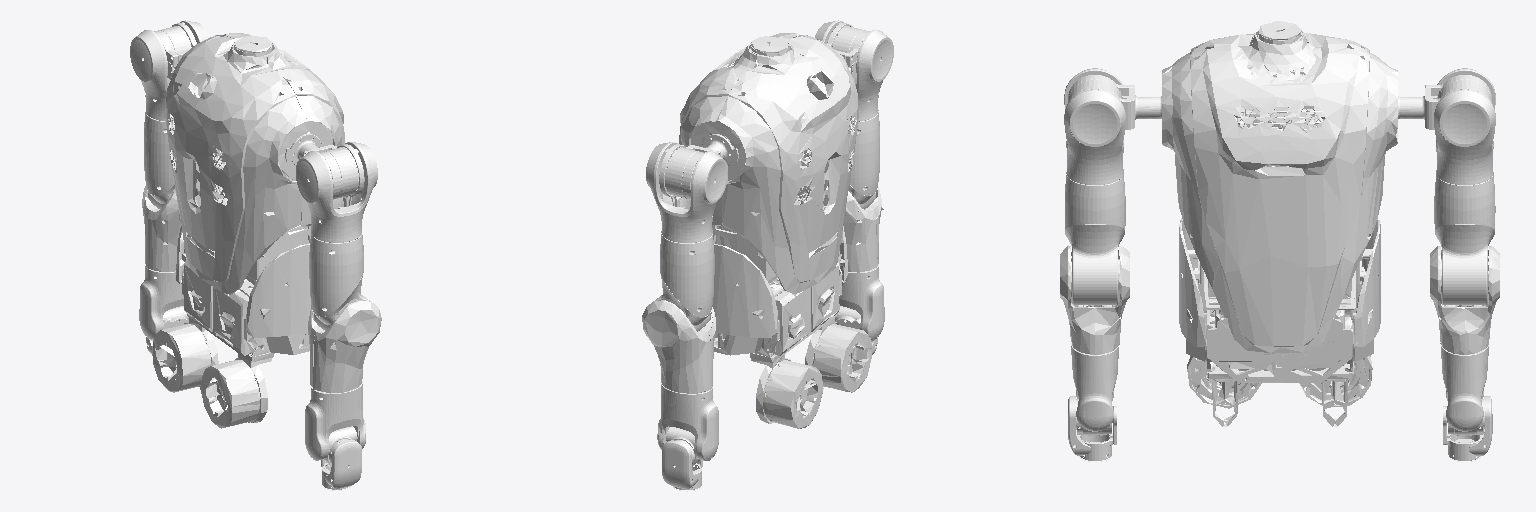
URDF robot description (biped_s48):
<?xml version='1.0' encoding='utf-8'?>
<robot name="biped_s48">
  <mujoco>
    <compiler meshdir="../meshes/" balanceinertia="true" discardvisual="false" />
  </mujoco>
  <link name="base_link">
    <inertial>
      <origin xyz="-0.0185005 0.00031952 0.1929569" rpy="0 0 0" />
      <mass value="22.11293803" />
      <inertia ixx="0.93103133" ixy="0.00011763" ixz="-0.07210993" iyy="0.82590532" iyz="6.88e-06" izz="0.27686612" />
    </inertial>
    <visual>
      <origin xyz="0 0 0" rpy="0 0 0" />
      <geometry>
        <mesh filename="../../meshes/torso.STL" />
      </geometry>
      <material name="">
        <color rgba="1 1 1 1" />
      </material>
    </visual>
  </link>
  <link name="zarm_l1_link">
    <inertial>
      <origin xyz="-0.00083 -0.02218 0.00035" rpy="0 0 0" />
      <mass value="0.962" />
      <inertia ixx="0.00225" ixy="-3e-05" ixz="0.0" iyy="0.00099" iyz="-2e-05" izz="0.00227" />
    </inertial>
    <visual>
      <origin xyz="0 0 0" rpy="0 0 0" />
      <geometry>
        <mesh filename="../../meshes/l_arm_pitch.STL" />
      </geometry>
      <material name="">
        <color rgba="1 1 1 1" />
      </material>
    </visual>
  </link>
  <joint name="zarm_l1_joint" type="revolute">
    <origin xyz="-0.017499853 0.29269999999999996 0.4245" rpy="0 0 0" />
    <parent link="base_link" />
    <child link="zarm_l1_link" />
    <axis xyz="0 1 0" />
    <limit lower="-3.14159265358979" upper="1.5707963267949" effort="100.0" velocity="41.3433333333333" />
  </joint>
  <link name="zarm_l2_link">
    <inertial>
      <origin xyz="-0.00791 0.0 -0.04655" rpy="0 0 0" />
      <mass value="0.57" />
      <inertia ixx="0.00163" ixy="0.0" ixz="5e-05" iyy="0.00211" iyz="0.0" izz="0.00122" />
    </inertial>
    <visual>
      <origin xyz="0 0 0" rpy="0 0 0" />
      <geometry>
        <mesh filename="../../meshes/l_arm_roll.STL" />
      </geometry>
      <material name="">
        <color rgba="1 1 1 1" />
      </material>
    </visual>
  </link>
  <joint name="zarm_l2_joint" type="revolute">
    <origin xyz="0 0 0" rpy="0 0 0" />
    <parent link="zarm_l1_link" />
    <child link="zarm_l2_link" />
    <axis xyz="1 0 0" />
    <limit lower="-0.349065850398866" upper="2.0943951023932" effort="50.0" velocity="19.154" />
  </joint>
  <link name="zarm_l3_link">
    <inertial>
      <origin xyz="0.00628 0.00107 -0.20878" rpy="0 0 0" />
      <mass value="1.65" />
      <inertia ixx="0.00815" ixy="-4e-05" ixz="0.00085" iyy="0.00828" iyz="0.00014" izz="0.00206" />
    </inertial>
    <visual>
      <origin xyz="0 0 0" rpy="0 0 0" />
      <geometry>
        <mesh filename="../../meshes/l_arm_yaw.STL" />
      </geometry>
      <material name="">
        <color rgba="1 1 1 1" />
      </material>
    </visual>
  </link>
  <joint name="zarm_l3_joint" type="revolute">
    <origin xyz="0 0 0" rpy="0 0 0" />
    <parent link="zarm_l2_link" />
    <child link="zarm_l3_link" />
    <axis xyz="0 0 1" />
    <limit lower="-1.5707963267949" upper="1.5707963267949" effort="39.0" velocity="18.84" />
  </joint>
  <link name="zarm_l4_link">
    <inertial>
      <origin xyz="-0.01611 0.00143 -0.04857" rpy="0 0 0" />
      <mass value="0.429" />
      <inertia ixx="0.00135" ixy="0.0" ixz="-0.0001" iyy="0.00114" iyz="0.0" izz="0.00083" />
    </inertial>
    <visual>
      <origin xyz="0 0 0" rpy="0 0 0" />
      <geometry>
        <mesh filename="../../meshes/l_forearm.STL" />
      </geometry>
      <material name="">
        <color rgba="1 1 1 1" />
      </material>
    </visual>
  </link>
  <joint name="zarm_l4_joint" type="revolute">
    <origin xyz="0.0200000000000006 0 -0.283699999999996" rpy="0 0 0" />
    <parent link="zarm_l3_link" />
    <child link="zarm_l4_link" />
    <axis xyz="0 1 0" />
    <limit lower="-2.61799387799149" upper="0.0" effort="50.0" velocity="18.84" />
  </joint>
  <link name="zarm_l5_link">
    <inertial>
      <origin xyz="-0.00207 0.00018 -0.05079" rpy="0 0 0" />
      <mass value="0.61" />
      <inertia ixx="0.00107" ixy="0.0" ixz="-4e-05" iyy="0.00146" iyz="0.0" izz="0.00083" />
    </inertial>
    <visual>
      <origin xyz="0 0 0" rpy="0 0 0" />
      <geometry>
        <mesh filename="../../meshes/l_hand_yaw.STL" />
      </geometry>
      <material name="">
        <color rgba="1 1 1 1" />
      </material>
    </visual>
  </link>
  <joint name="zarm_l5_joint" type="revolute">
    <origin xyz="-0.0200000000000025 0 -0.127037274261591" rpy="0 0 0" />
    <parent link="zarm_l4_link" />
    <child link="zarm_l5_link" />
    <axis xyz="0 0 1" />
    <limit lower="-1.5707963267949" upper="1.5707963267949" effort="12.0" velocity="21.666" />
  </joint>
  <link name="zarm_l6_link">
    <inertial>
      <origin xyz="-0.00111 0.00335 -0.01335" rpy="0 0 0" />
      <mass value="0.331" />
      <inertia ixx="0.00022" ixy="0.0" ixz="0.0" iyy="0.00027" iyz="0.0" izz="0.00028" />
    </inertial>
    <visual>
      <origin xyz="0 0 0" rpy="0 0 0" />
      <geometry>
        <mesh filename="../../meshes/l_hand_roll.STL" />
      </geometry>
      <material name="">
        <color rgba="1 1 1 1" />
      </material>
    </visual>
  </link>
  <joint name="zarm_l6_joint" type="revolute">
    <origin xyz="0.000199999999999079 0 -0.106462725738415" rpy="0 0 0" />
    <parent link="zarm_l5_link" />
    <child link="zarm_l6_link" />
    <axis xyz="1 0 0" />
    <limit lower="-1.30899693899575" upper="0.698131700797732" effort="12.0" velocity="21.666" />
  </joint>
  <link name="zarm_l7_link">
    <inertial>
      <origin xyz="0.00186 0.01014 -0.09044" rpy="0 0 0" />
      <mass value="0.0542110173081966" />
      <inertia ixx="0.00071" ixy="1e-05" ixz="2e-05" iyy="0.0007" iyz="-4e-05" izz="0.00012" />
    </inertial>
    <visual>
      <origin xyz="0 0 0" rpy="0 0 0" />
      <geometry>
        <mesh filename="../../meshes/l_hand_pitch.STL" />
      </geometry>
      <material name="">
        <color rgba="1 1 1 1" />
      </material>
    </visual>
  </link>
  <joint name="zarm_l7_joint" type="revolute">
    <origin xyz="0 0 -0.0210004653879916" rpy="0 0 0" />
    <parent link="zarm_l6_link" />
    <child link="zarm_l7_link" />
    <axis xyz="0 1 0" />
    <limit lower="-0.698131700797732" upper="0.698131700797732" effort="12.0" velocity="21.666" />
  </joint>
  <link name="zarm_l7_end_effector">
    <collision>
      <origin rpy="0 0 0" xyz="0 0 0" />
      <geometry>
        <sphere radius="0.005" />
      </geometry>
    </collision>
  </link>
  <joint name="zarm_l7_end_effector_joint" type="fixed">
    <origin xyz="0 -0.03 -0.17" rpy="0 0 0" />
    <parent link="zarm_l7_link" />
    <child link="zarm_l7_end_effector" />
  </joint>
  <link name="zarm_r1_link">
    <inertial>
      <origin xyz="-0.00083 0.02218 0.00035" rpy="0 0 0" />
      <mass value="0.962" />
      <inertia ixx="0.00225" ixy="3e-05" ixz="0.0" iyy="0.00099" iyz="2e-05" izz="0.00227" />
    </inertial>
    <visual>
      <origin xyz="0 0 0" rpy="0 0 0" />
      <geometry>
        <mesh filename="../../meshes/r_arm_pitch.STL" />
      </geometry>
      <material name="">
        <color rgba="1 1 1 1" />
      </material>
    </visual>
  </link>
  <joint name="zarm_r1_joint" type="revolute">
    <origin xyz="-0.017499853 -0.29269999999999996 0.4245" rpy="0 0 0" />
    <parent link="base_link" />
    <child link="zarm_r1_link" />
    <axis xyz="0 1 0" />
    <limit lower="-3.14159265358979" upper="1.5707963267949" effort="100.0" velocity="41.3433333333333" />
  </joint>
  <link name="zarm_r2_link">
    <inertial>
      <origin xyz="-0.00791 0.0 -0.04655" rpy="0 0 0" />
      <mass value="0.57" />
      <inertia ixx="0.00163" ixy="0.0" ixz="5e-05" iyy="0.00211" iyz="0.0" izz="0.00122" />
    </inertial>
    <visual>
      <origin xyz="0 0 0" rpy="0 0 0" />
      <geometry>
        <mesh filename="../../meshes/r_arm_roll.STL" />
      </geometry>
      <material name="">
        <color rgba="1 1 1 1" />
      </material>
    </visual>
  </link>
  <joint name="zarm_r2_joint" type="revolute">
    <origin xyz="0 0 0" rpy="0 0 0" />
    <parent link="zarm_r1_link" />
    <child link="zarm_r2_link" />
    <axis xyz="1 0 0" />
    <limit lower="-2.0943951023932" upper="0.349065850398866" effort="50.0" velocity="19.154" />
  </joint>
  <link name="zarm_r3_link">
    <inertial>
      <origin xyz="0.00628 -0.00107 -0.20878" rpy="0 0 0" />
      <mass value="1.65" />
      <inertia ixx="0.00815" ixy="4e-05" ixz="0.00085" iyy="0.00828" iyz="-0.00014" izz="0.00206" />
    </inertial>
    <visual>
      <origin xyz="0 0 0" rpy="0 0 0" />
      <geometry>
        <mesh filename="../../meshes/r_arm_yaw.STL" />
      </geometry>
      <material name="">
        <color rgba="1 1 1 1" />
      </material>
    </visual>
  </link>
  <joint name="zarm_r3_joint" type="revolute">
    <origin xyz="0 0 0" rpy="0 0 0" />
    <parent link="zarm_r2_link" />
    <child link="zarm_r3_link" />
    <axis xyz="0 0 1" />
    <limit lower="-1.5707963267949" upper="1.5707963267949" effort="39.0" velocity="18.84" />
  </joint>
  <link name="zarm_r4_link">
    <inertial>
      <origin xyz="-0.01611 -0.00143 -0.04857" rpy="0 0 0" />
      <mass value="0.429" />
      <inertia ixx="0.00135" ixy="0.0" ixz="-0.0001" iyy="0.00114" iyz="0.0" izz="0.00083" />
    </inertial>
    <visual>
      <origin xyz="0 0 0" rpy="0 0 0" />
      <geometry>
        <mesh filename="../../meshes/r_forearm.STL" />
      </geometry>
      <material name="">
        <color rgba="1 1 1 1" />
      </material>
    </visual>
  </link>
  <joint name="zarm_r4_joint" type="revolute">
    <origin xyz="0.0200000000000024 0 -0.2837" rpy="0 0 0" />
    <parent link="zarm_r3_link" />
    <child link="zarm_r4_link" />
    <axis xyz="0 1 0" />
    <limit lower="-2.61799387799149" upper="0.0" effort="50.0" velocity="18.84" />
  </joint>
  <link name="zarm_r5_link">
    <inertial>
      <origin xyz="-0.00207 -0.00018 -0.05079" rpy="0 0 0" />
      <mass value="0.61" />
      <inertia ixx="0.00107" ixy="0.0" ixz="-4e-05" iyy="0.00146" iyz="0.0" izz="0.00083" />
    </inertial>
    <visual>
      <origin xyz="0 0 0" rpy="0 0 0" />
      <geometry>
        <mesh filename="../../meshes/r_hand_yaw.STL" />
      </geometry>
      <material name="">
        <color rgba="1 1 1 1" />
      </material>
    </visual>
  </link>
  <joint name="zarm_r5_joint" type="revolute">
    <origin xyz="-0.0200000000000001 0 -0.127037274261587" rpy="0 0 0" />
    <parent link="zarm_r4_link" />
    <child link="zarm_r5_link" />
    <axis xyz="0 0 1" />
    <limit lower="-1.5707963267949" upper="1.5707963267949" effort="12.0" velocity="21.666" />
  </joint>
  <link name="zarm_r6_link">
    <inertial>
      <origin xyz="-0.00111 -0.00335 -0.01335" rpy="0 0 0" />
      <mass value="0.331" />
      <inertia ixx="0.00022" ixy="0.0" ixz="0.0" iyy="0.00027" iyz="0.0" izz="0.00028" />
    </inertial>
    <visual>
      <origin xyz="0 0 0" rpy="0 0 0" />
      <geometry>
        <mesh filename="../../meshes/r_hand_roll.STL" />
      </geometry>
      <material name="">
        <color rgba="1 1 1 1" />
      </material>
    </visual>
  </link>
  <joint name="zarm_r6_joint" type="revolute">
    <origin xyz="0 0 -0.106462725738415" rpy="0 0 0" />
    <parent link="zarm_r5_link" />
    <child link="zarm_r6_link" />
    <axis xyz="1 0 0" />
    <limit lower="-0.698131700797732" upper="1.30899693899575" effort="12.0" velocity="21.666" />
  </joint>
  <link name="zarm_r7_link">
    <inertial>
      <origin xyz="0.00186 -0.01014 -0.09044" rpy="0 0 0" />
      <mass value="0.0542110173081966" />
      <inertia ixx="0.00069" ixy="-1e-05" ixz="2e-05" iyy="0.00068" iyz="5e-05" izz="0.00012" />
    </inertial>
    <visual>
      <origin xyz="0 0 0" rpy="0 0 0" />
      <geometry>
        <mesh filename="../../meshes/r_hand_pitch.STL" />
      </geometry>
      <material name="">
        <color rgba="1 1 1 1" />
      </material>
    </visual>
  </link>
  <joint name="zarm_r7_joint" type="revolute">
    <origin xyz="0 0 -0.0209999999999999" rpy="0 0 0" />
    <parent link="zarm_r6_link" />
    <child link="zarm_r7_link" />
    <axis xyz="0 1 0" />
    <limit lower="-0.698131700797732" upper="0.698131700797732" effort="12.0" velocity="21.666" />
  </joint>
  <link name="zarm_r7_end_effector">
    <collision>
      <origin rpy="0 0 0" xyz="0 0 0" />
      <geometry>
        <sphere radius="0.005" />
      </geometry>
    </collision>
  </link>
  <joint name="zarm_r7_end_effector_joint" type="fixed">
    <origin xyz="0 0.03 -0.17" rpy="0 0 0" />
    <parent link="zarm_r7_link" />
    <child link="zarm_r7_end_effector" />
  </joint>
  </robot>

--- Facts derived from the render (not from the file) ---
Views: 3 orthographic renders of the robot side by side, from view 1: azimuth 30°, elevation 25°; view 2: azimuth 150°, elevation 25°; view 3: azimuth 270°, elevation 25°.
Model biped_s48 with 17 links and 16 joints (14 revolute, 2 fixed), rooted at base_link, posed all joints at 0.
Visible links, largest first — view 1: base_link, zarm_r4_link, zarm_r2_link, zarm_r3_link, zarm_r5_link, zarm_l2_link, zarm_l4_link, zarm_r1_link, zarm_l3_link, zarm_l5_link, zarm_r7_link, zarm_l1_link; view 2: base_link, zarm_l4_link, zarm_l2_link, zarm_l3_link, zarm_l5_link, zarm_r2_link, zarm_r4_link, zarm_l1_link, zarm_r3_link, zarm_r5_link, zarm_l7_link, zarm_r1_link; view 3: base_link, zarm_l3_link, zarm_r3_link, zarm_l2_link, zarm_r2_link, zarm_r4_link, zarm_l4_link, zarm_l5_link, zarm_r5_link, zarm_l1_link, zarm_r1_link, zarm_l7_link (+1 smaller).
Link boxes in pixels (left/top/right/bottom): base_link: left=152, top=33, right=344, bottom=428; zarm_r4_link: left=308, top=300, right=381, bottom=393; zarm_r2_link: left=296, top=142, right=377, bottom=242; zarm_r3_link: left=309, top=234, right=369, bottom=330; zarm_r5_link: left=305, top=381, right=365, bottom=460; zarm_l2_link: left=130, top=20, right=209, bottom=121; zarm_l4_link: left=142, top=186, right=180, bottom=271; zarm_r1_link: left=285, top=134, right=364, bottom=199; zarm_l3_link: left=144, top=112, right=174, bottom=209; zarm_l5_link: left=139, top=264, right=183, bottom=339; zarm_r7_link: left=321, top=440, right=361, bottom=490; zarm_l1_link: left=154, top=22, right=196, bottom=79; base_link: left=679, top=33, right=872, bottom=428; zarm_l4_link: left=642, top=300, right=715, bottom=393; zarm_l2_link: left=646, top=142, right=727, bottom=242; zarm_l3_link: left=652, top=234, right=714, bottom=331; zarm_l5_link: left=657, top=383, right=718, bottom=460; zarm_r2_link: left=815, top=20, right=893, bottom=121; zarm_r4_link: left=843, top=185, right=883, bottom=272; zarm_l1_link: left=659, top=134, right=738, bottom=199; zarm_r3_link: left=848, top=112, right=879, bottom=209; zarm_r5_link: left=839, top=264, right=884, bottom=339; zarm_l7_link: left=662, top=440, right=702, bottom=491; zarm_r1_link: left=827, top=22, right=869, bottom=78; base_link: left=1162, top=21, right=1397, bottom=426; zarm_l3_link: left=1434, top=174, right=1495, bottom=304; zarm_r3_link: left=1065, top=175, right=1125, bottom=304; zarm_l2_link: left=1434, top=68, right=1495, bottom=184; zarm_r2_link: left=1064, top=68, right=1125, bottom=184; zarm_r4_link: left=1060, top=245, right=1129, bottom=354; zarm_l4_link: left=1430, top=246, right=1499, bottom=354; zarm_l5_link: left=1440, top=343, right=1488, bottom=431; zarm_r5_link: left=1071, top=342, right=1119, bottom=431; zarm_l1_link: left=1398, top=75, right=1493, bottom=129; zarm_r1_link: left=1066, top=75, right=1161, bottom=129; zarm_l7_link: left=1443, top=396, right=1492, bottom=461.
Size in the robot's own frame: 0.2742 by 0.696 by 0.7882 metres.
Meshes: 15 distinct files referenced, 15 mesh visuals loaded (15 binary STL).